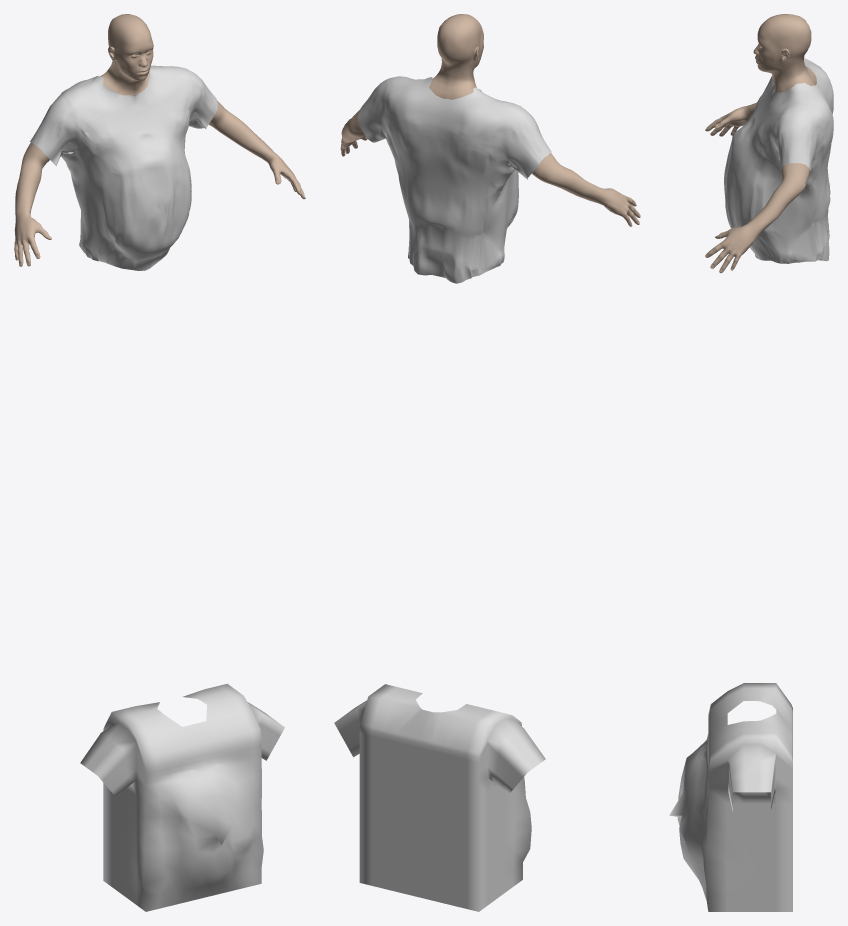
3 views of the same model, side by side, from view 1: azimuth 30°, elevation 25°; view 2: azimuth 150°, elevation 25°; view 3: azimuth 270°, elevation 25° (orthographic). The views are drawn at different scales.
Parts seen in each view (by area): view 1: Cube.001, Cube, Base; view 2: Cube.001, Cube, Base; view 3: Cube.001, Cube, Base.
Boxes of the visible parts, left/top/right/bottom form: Cube.001: left=80, top=683, right=284, bottom=911; Cube: left=30, top=65, right=217, bottom=270; Base: left=14, top=14, right=305, bottom=266; Cube.001: left=334, top=684, right=545, bottom=911; Cube: left=357, top=76, right=551, bottom=283; Base: left=340, top=14, right=640, bottom=226; Cube.001: left=669, top=683, right=792, bottom=911; Cube: left=724, top=58, right=833, bottom=263; Base: left=705, top=14, right=816, bottom=273.
Size of the model in its own units: 10.82 by 31.24 by 5.48.
